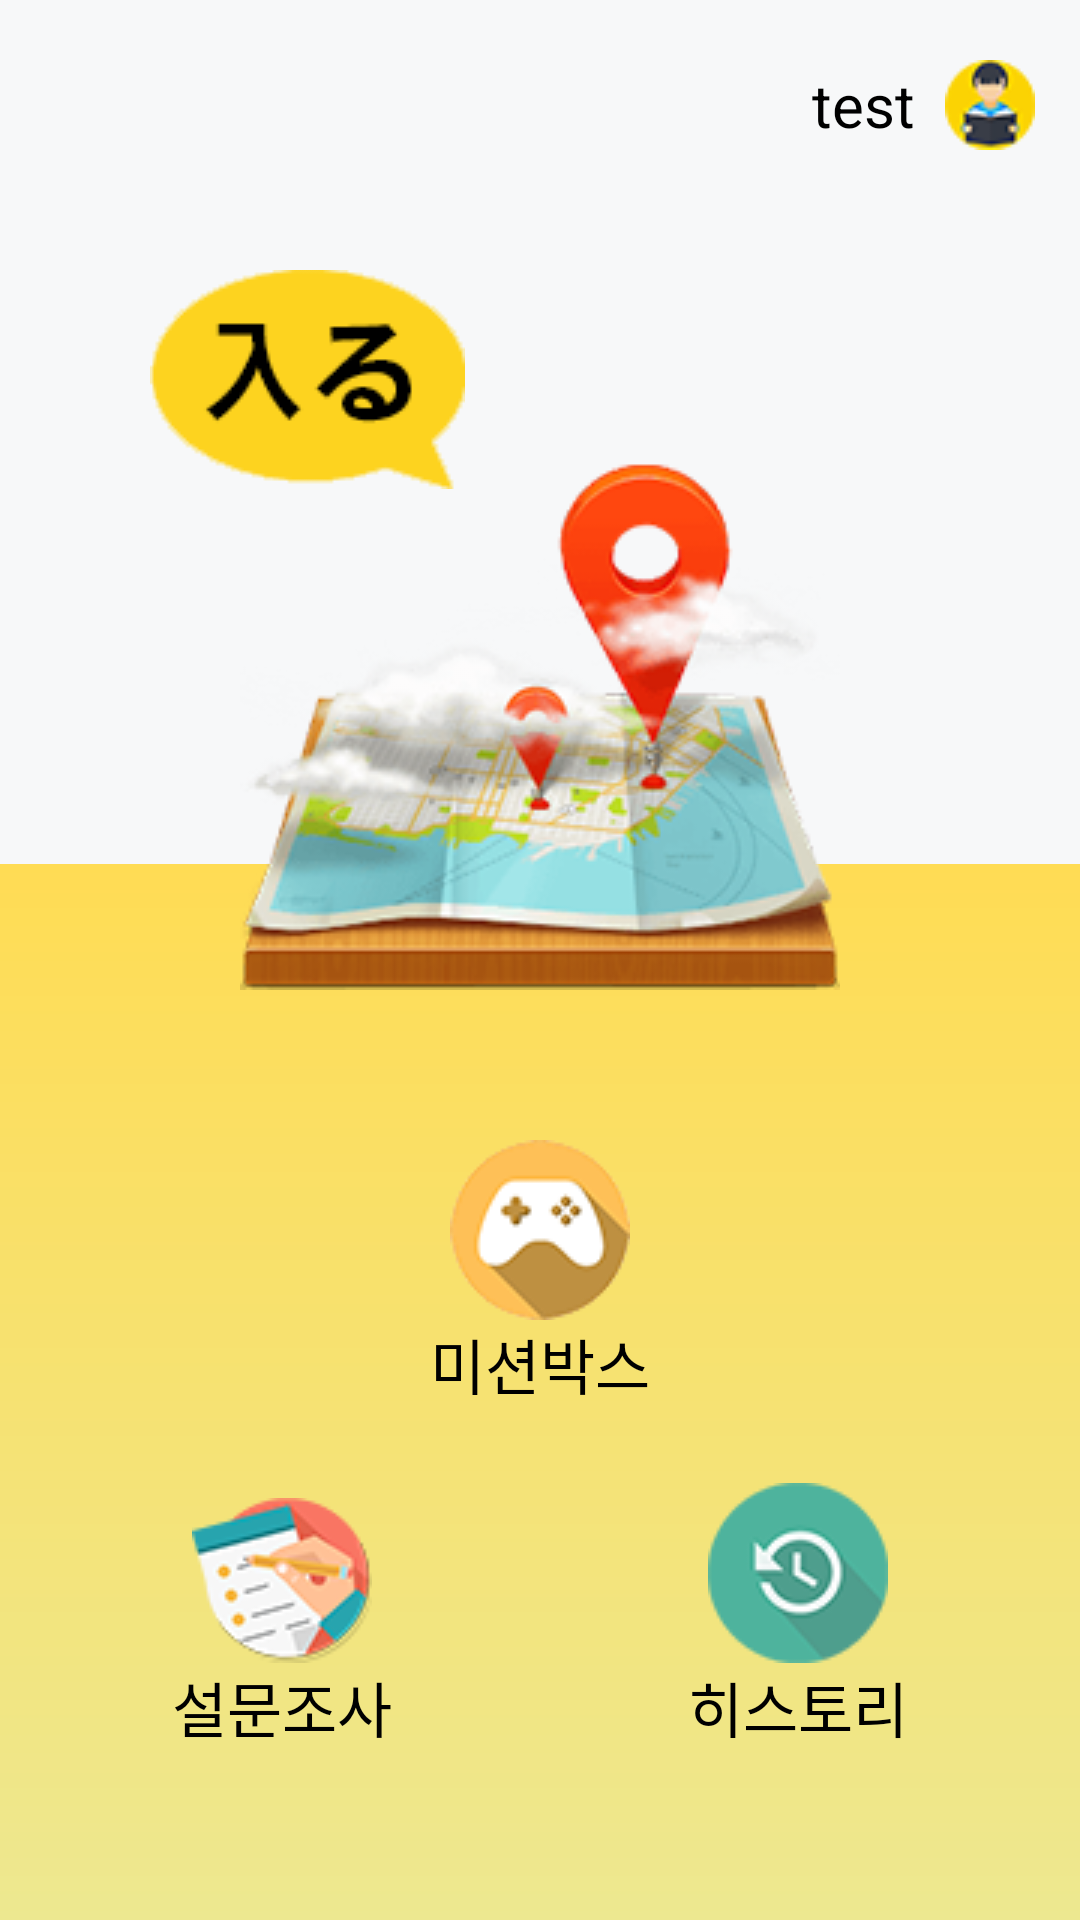

Where icons sit on this 1080px×1920px app screen, as (x1, y1, x2, y2):
game: (450, 1140, 630, 1320)
student: (945, 60, 1035, 150)
